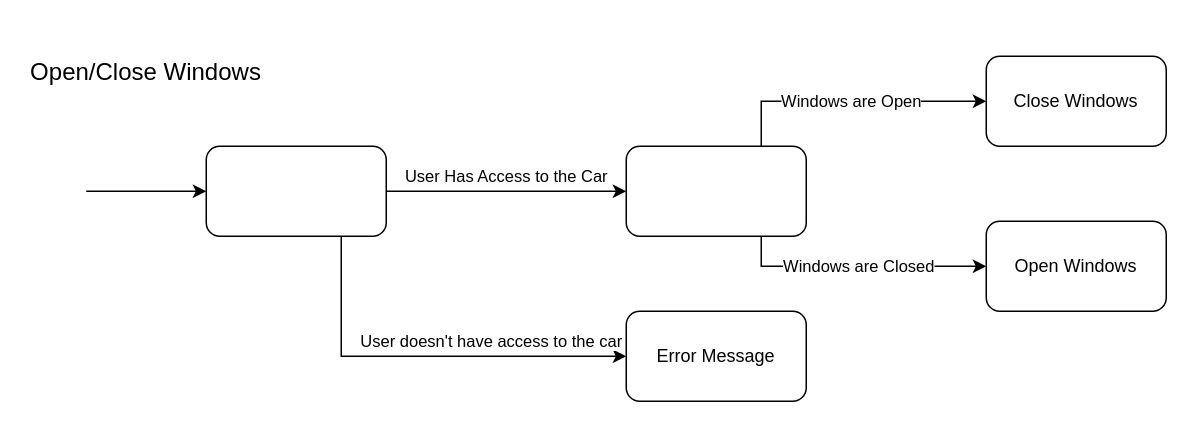
Image size: 1193x428. Some labels were removed from this diagram. Each missing label, with the centre of its shape:
User Selected a Car: point (295, 190)
User selects window button: point (715, 190)
